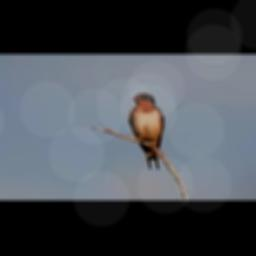Swallow: (130, 93, 164, 169)
